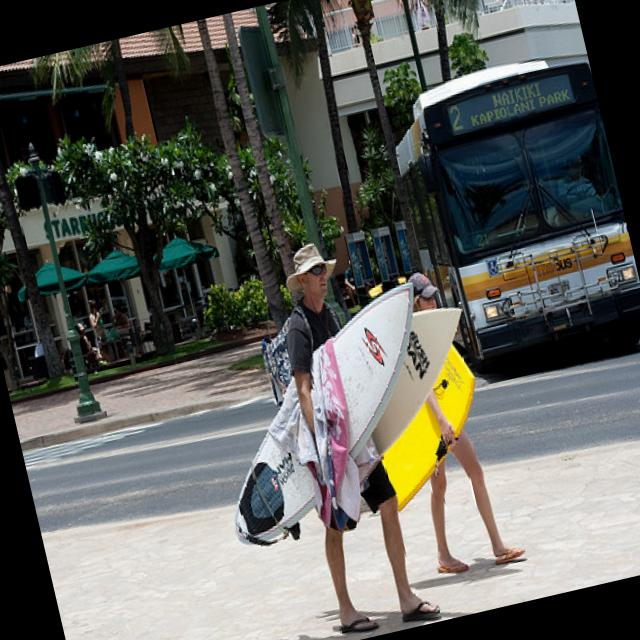Vehicle: (381, 48, 640, 383)
